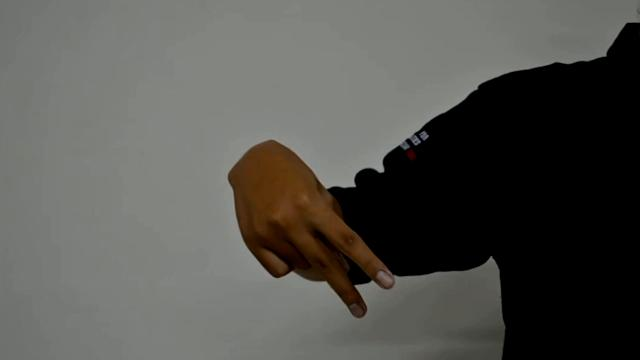P: (228, 136, 398, 324)
